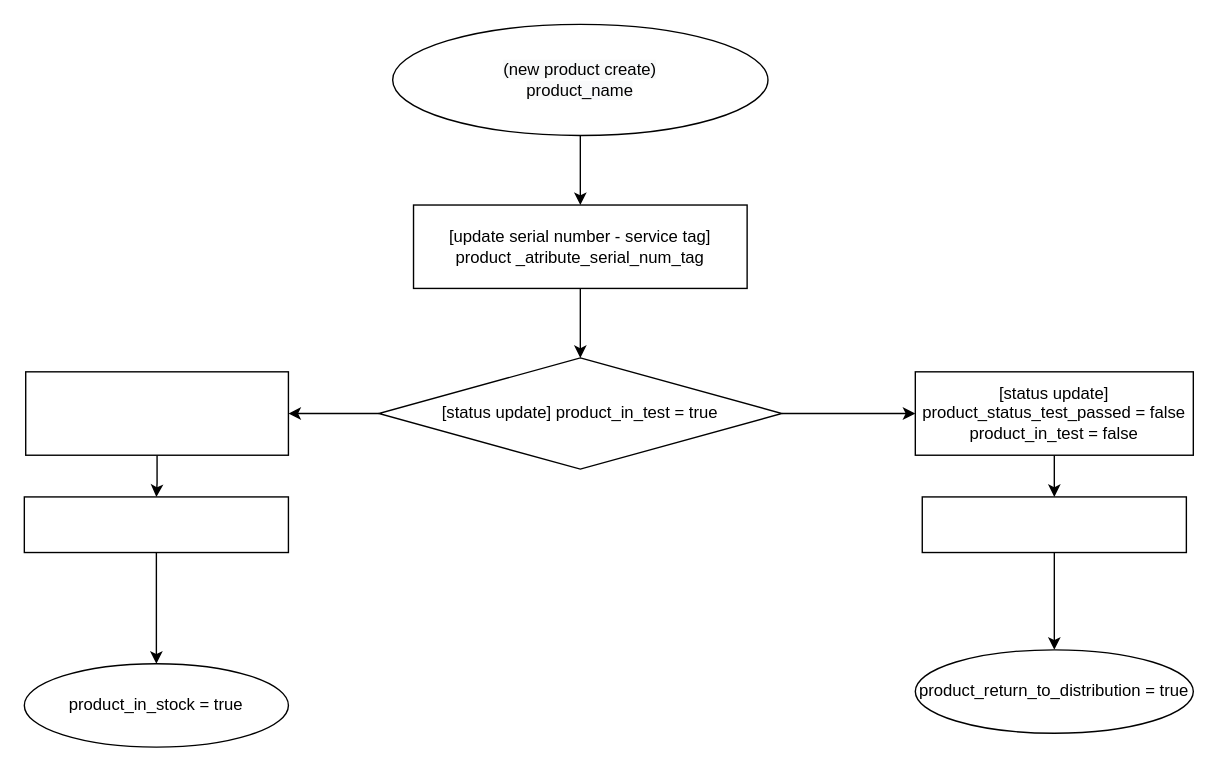
Some shapes in this 1218 by 771 pixel diagram are drawn without their labels. The shapes that lost their labels are listed below. From the top down, each one's box as (x1, y1, x2, y2) in pixels, then its label:
(24, 370, 288, 455): [status update] product_status_test_passed = true product_in_test = false
(23, 496, 288, 553): [status update] product_ready_to_in_stock = true product_in_stock = false
(921, 496, 1186, 553): [status update] product_ready_to_in_stock = false product_in_stock = false
